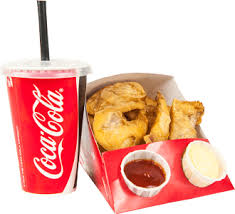coke: (4, 2, 92, 209)
